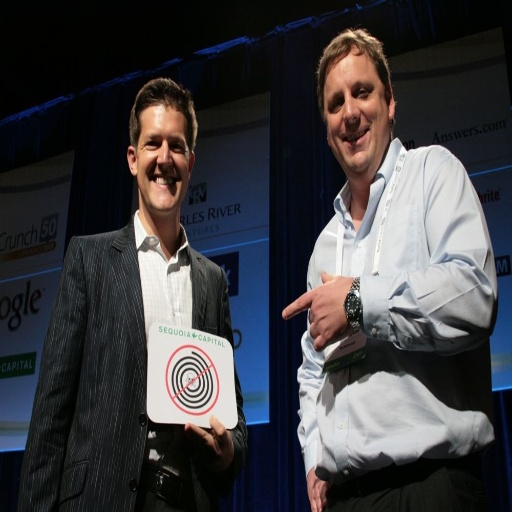hand: (292, 273, 364, 361), (184, 413, 236, 474), (306, 463, 331, 511)
